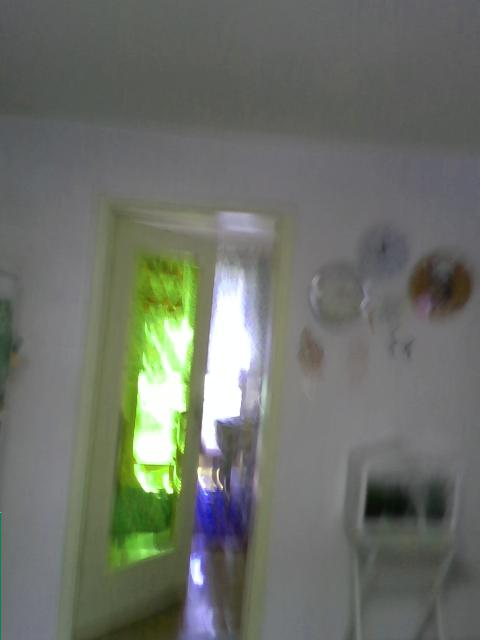semi_door: (57, 192, 294, 639)
